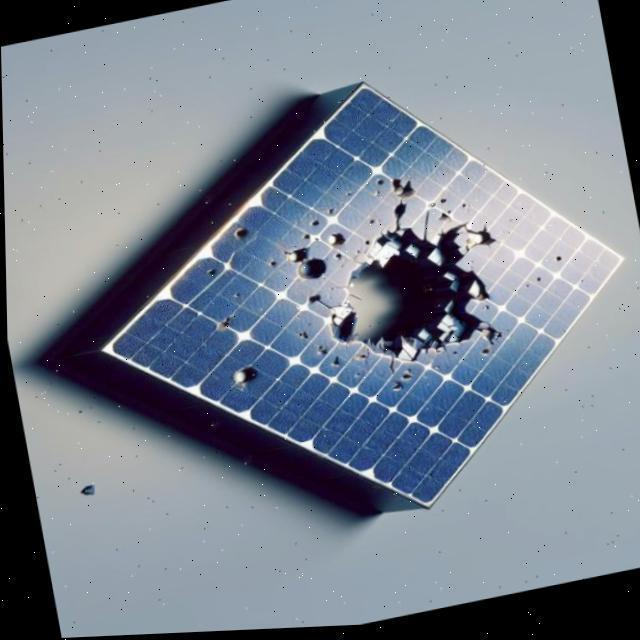Anomaly Solar Panel: (105, 51, 624, 564)
Structural Damage: (318, 220, 511, 386), (282, 324, 353, 385), (278, 238, 336, 297), (388, 179, 421, 233), (219, 364, 263, 395), (381, 373, 419, 403), (204, 313, 242, 340), (321, 232, 356, 257), (299, 293, 328, 315), (228, 226, 254, 248), (422, 212, 432, 241)
